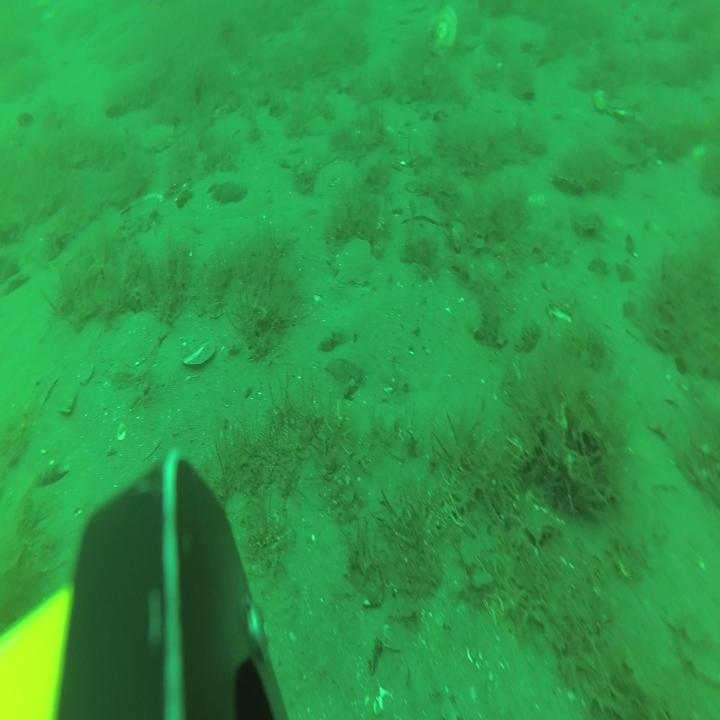scallop: (120, 313, 166, 361), (334, 240, 376, 284), (595, 82, 642, 118), (426, 6, 457, 57), (141, 122, 174, 151)
